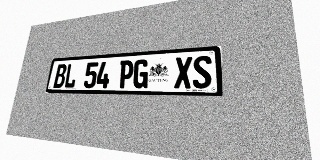4: (95, 61, 111, 88)
5: (83, 62, 98, 88)
B: (53, 64, 67, 88)
G: (132, 59, 149, 88)
L: (63, 63, 78, 88)
P: (118, 60, 134, 88)
S: (193, 55, 212, 88)
X: (174, 56, 192, 88)
